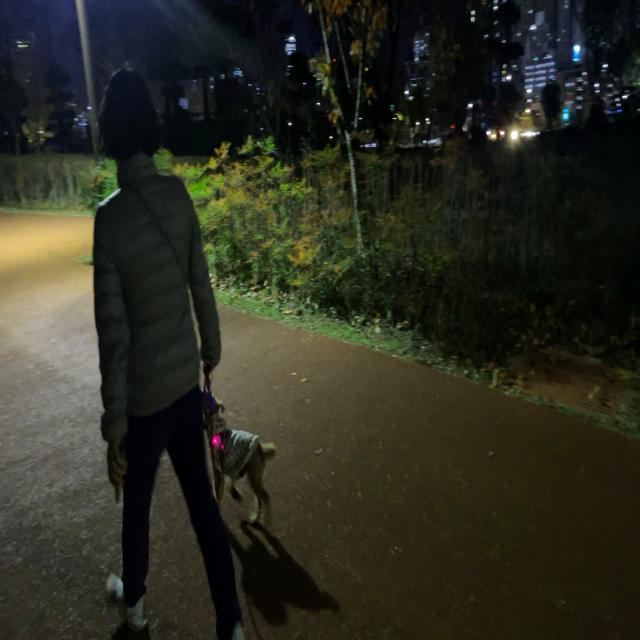Leashed_Dog: (127, 323, 278, 532)
